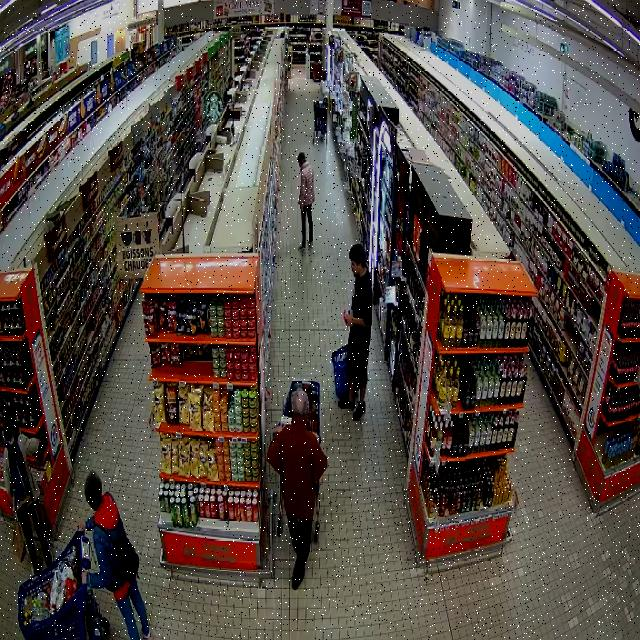article: (341, 308, 348, 329), (346, 306, 353, 314)
bags: (97, 525, 139, 583), (7, 438, 32, 508), (12, 518, 25, 562)
hands: (344, 313, 354, 327), (81, 569, 87, 585), (274, 425, 282, 435), (78, 522, 85, 531), (314, 433, 319, 443)
person: (267, 389, 326, 589), (83, 471, 149, 639), (338, 243, 372, 419), (298, 154, 314, 250)
